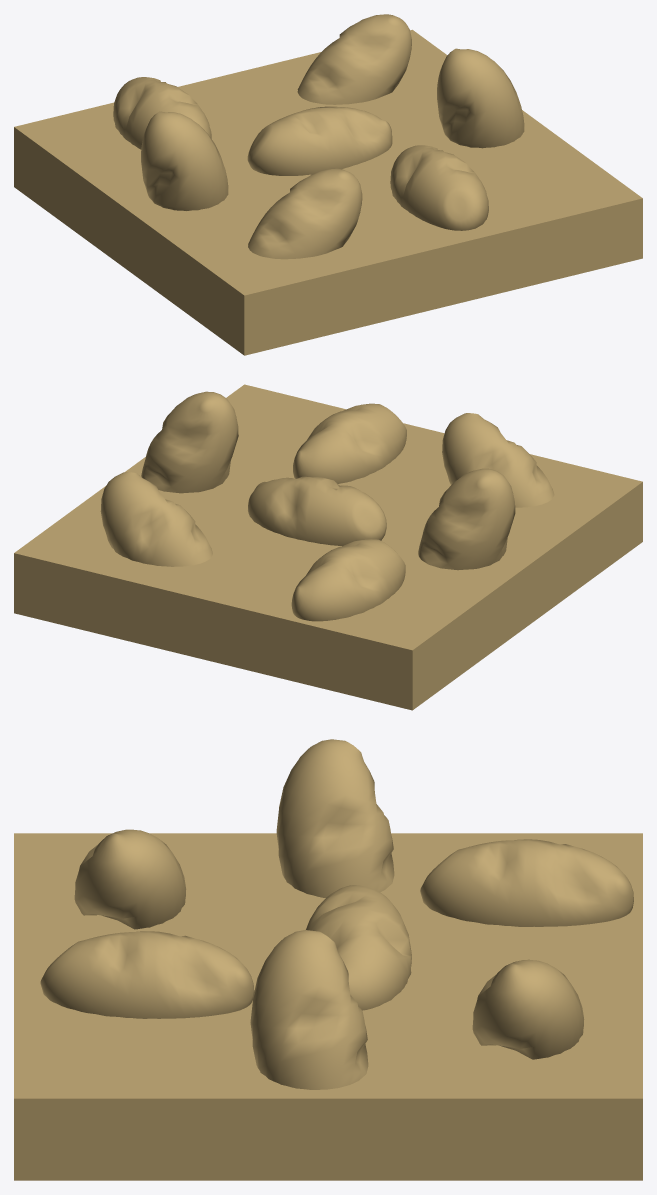
File: potatoFlat.fbx
3 views of the same model, one above another, from view 1: azimuth 30°, elevation 25°; view 2: azimuth 150°, elevation 25°; view 3: azimuth 270°, elevation 25° (orthographic). The views are drawn at different scales.
Visible parts, largest first — view 1: Potato_create_fill_model; view 2: Potato_create_fill_model; view 3: Potato_create_fill_model.
Boxes of the visible parts, x1,y1,x2,y2 form: Potato_create_fill_model: (14, 14, 642, 355); Potato_create_fill_model: (14, 384, 642, 710); Potato_create_fill_model: (14, 739, 642, 1180).
Size of the model in its own units: 0.9073 by 0.318 by 0.9087.
